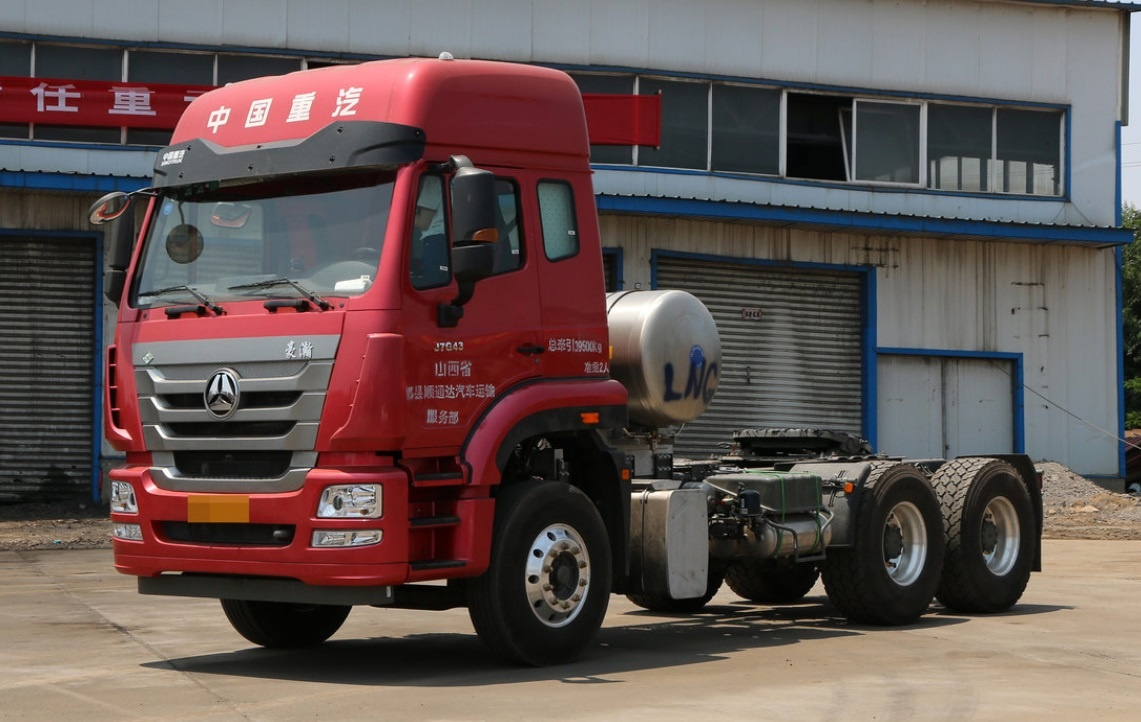heavy truck: (96, 71, 1032, 659)
